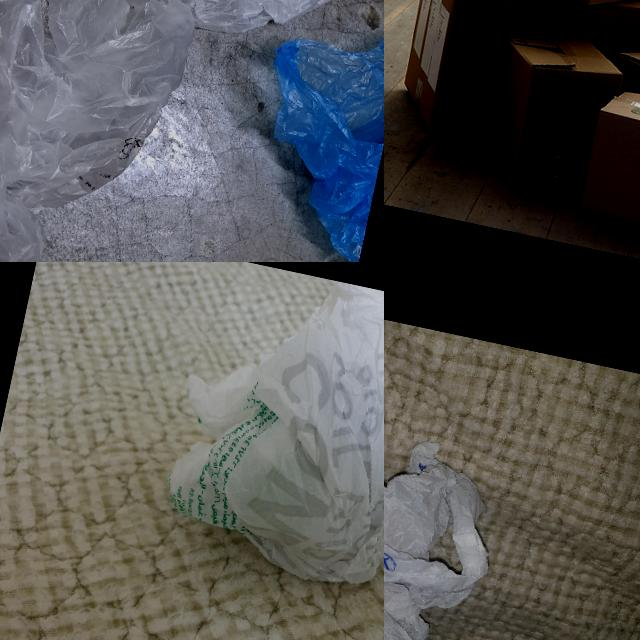papelão: (392, 0, 640, 176), (470, 20, 630, 202), (575, 84, 640, 246), (607, 34, 640, 118)
sacola plástica: (138, 262, 384, 629), (0, 0, 216, 262), (229, 4, 384, 262), (384, 404, 511, 640)
